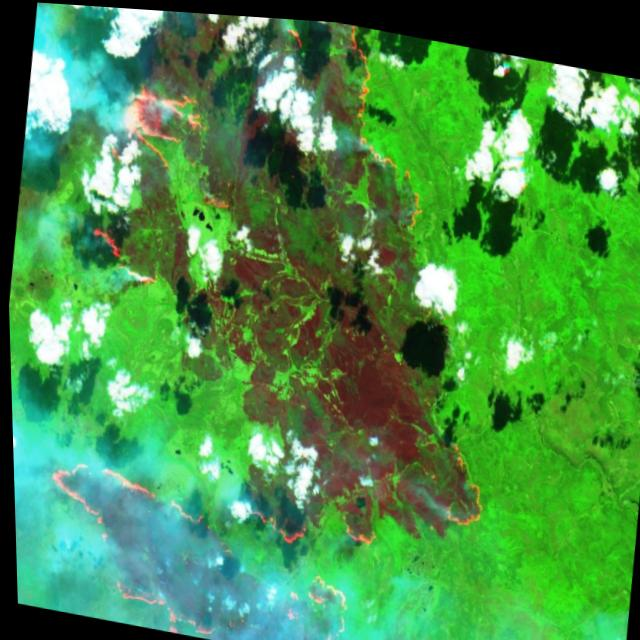fire: (21, 363, 492, 640), (73, 64, 249, 314), (316, 17, 446, 237)
